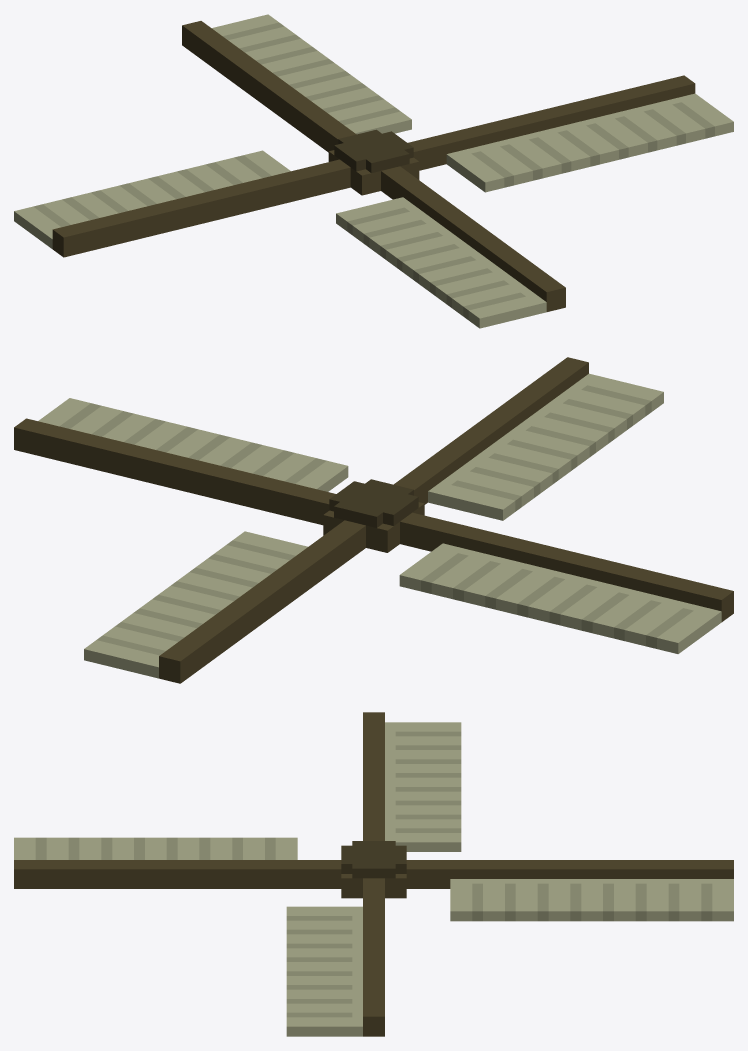
File: Mill-1.obj
3 renders of one model, top to bottom at view 1: azimuth 30°, elevation 25°; view 2: azimuth 150°, elevation 25°; view 3: azimuth 270°, elevation 25°, orthographic. The views are drawn at different scales.
Size of the model in its own units: 6.6 by 0.3 by 6.6.
1 material, 1 textured.
